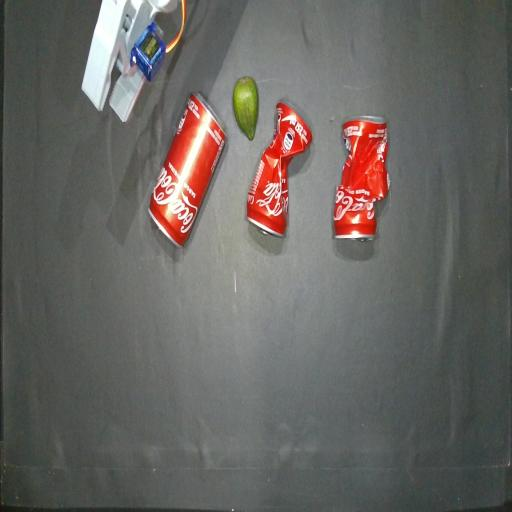higo: (233, 76, 258, 140)
lata: (149, 94, 225, 246)
lata_defectuoso: (246, 102, 312, 236), (333, 116, 389, 239)
